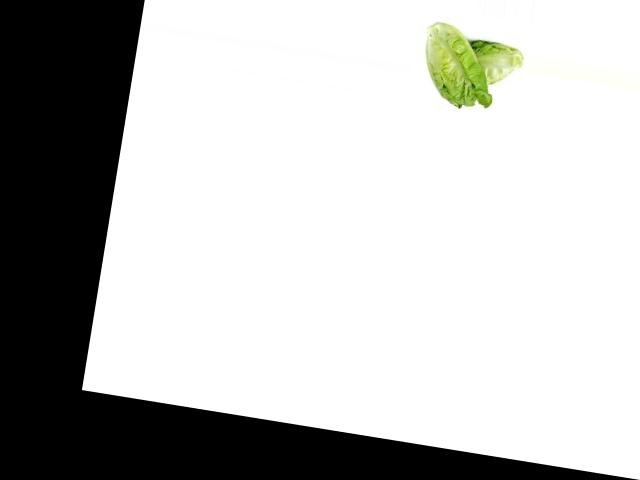lettuce: (462, 33, 528, 92)
